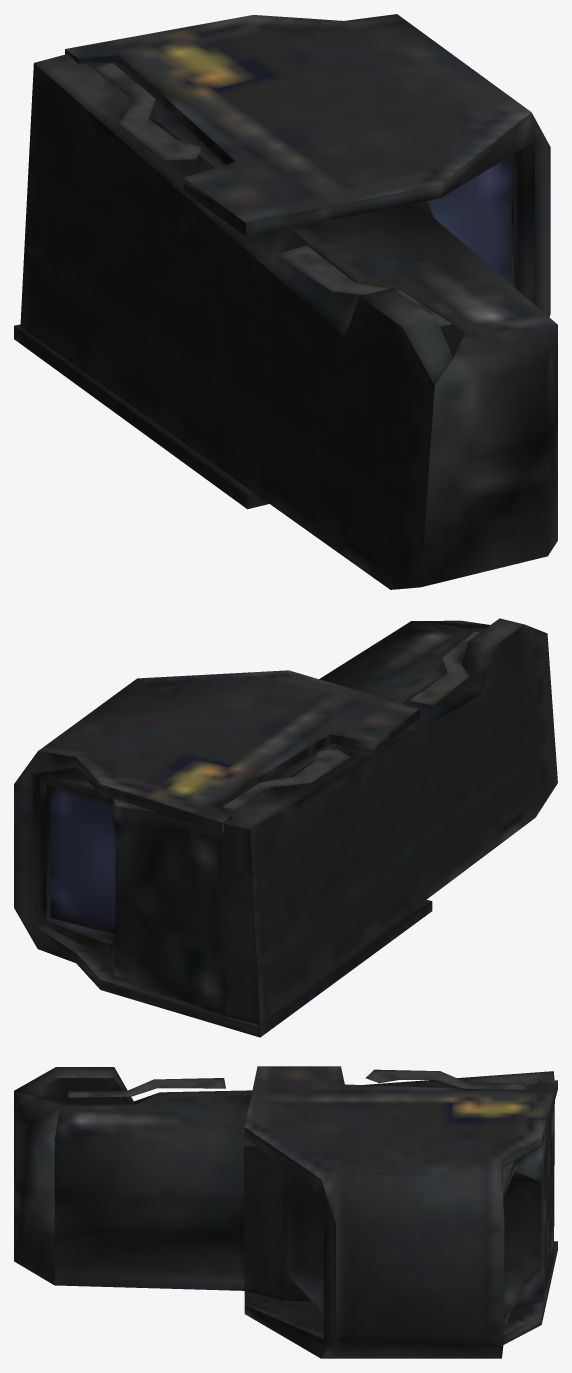
Rendered from Pickup_WeaponMzj01.glb.
3 views of the same model, one above another, from view 1: azimuth 30°, elevation 25°; view 2: azimuth 150°, elevation 25°; view 3: azimuth 270°, elevation 25° (orthographic). The views are drawn at different scales.
Visible parts, largest first — view 1: pk_weapon_mzj01; view 2: pk_weapon_mzj01; view 3: pk_weapon_mzj01.
Boxes of the visible parts, x1,y1,x2,y2 form: pk_weapon_mzj01: (14,14,557,589); pk_weapon_mzj01: (14,618,557,1037); pk_weapon_mzj01: (14,1066,557,1358).
Size of the model in its own units: 0.122 by 0.088 by 0.2298.
1 material, 1 textured.
